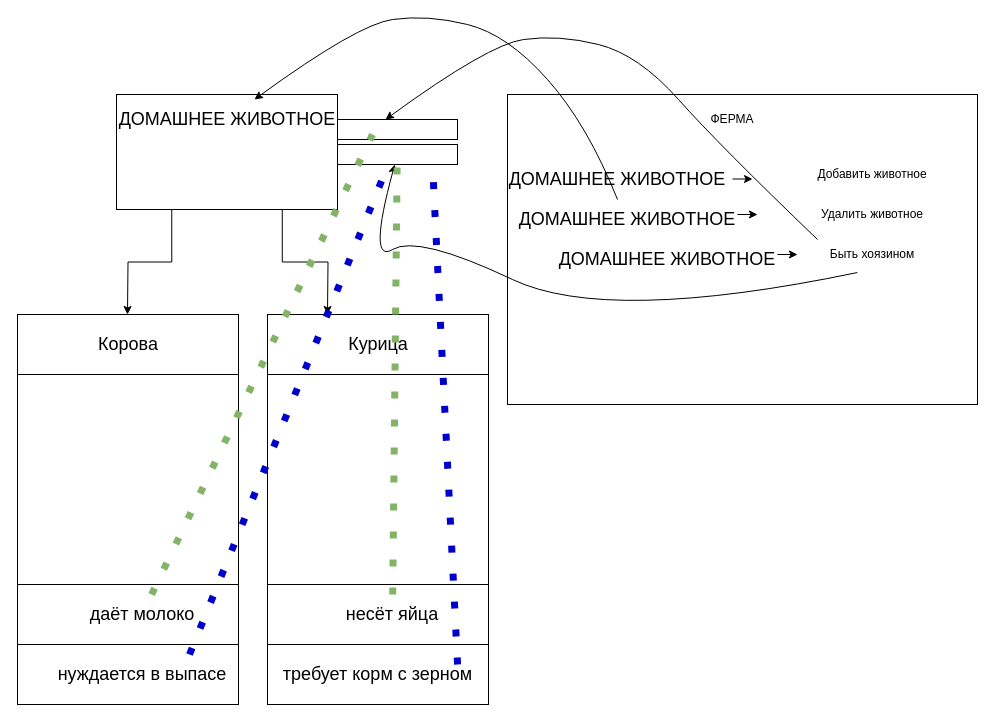
Some shapes in this 995 by 722 pixel diagram are drawn without their labels. Each missing label, with the box of its shape:
продукция: (336, 118, 458, 140)
уход: (336, 144, 458, 164)
